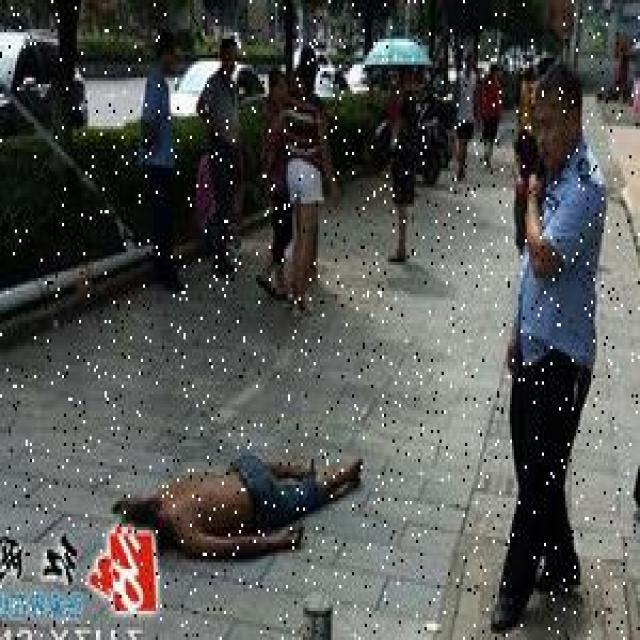fall: (111, 433, 365, 562)
